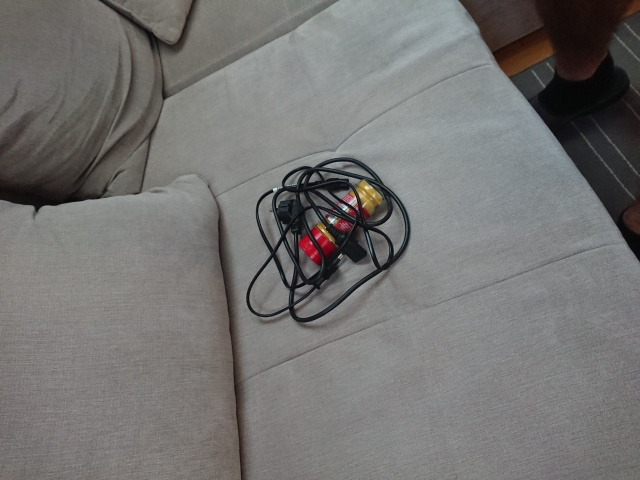Kotanyi Curry Spices Mix 70g: (296, 176, 386, 268)
